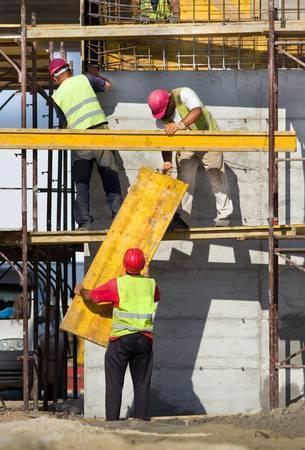helmet: (120, 243, 148, 275)
person: (109, 245, 160, 422)
vest: (50, 76, 104, 130), (115, 278, 159, 338)
